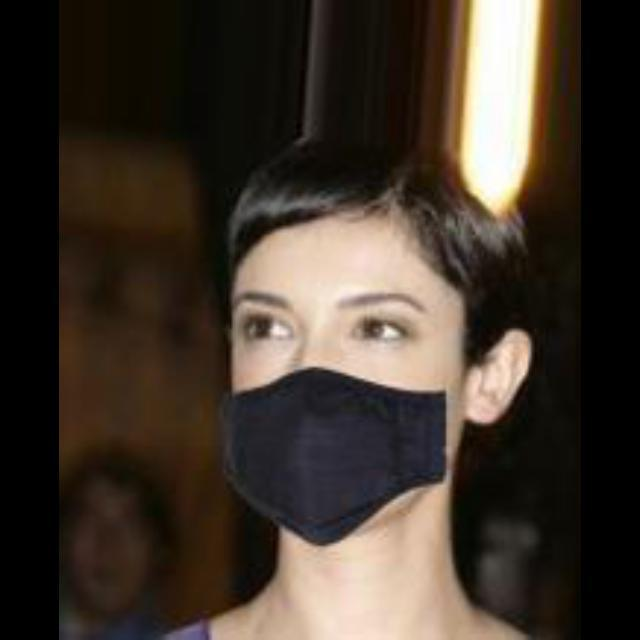suspicion: (240, 103, 510, 572)
